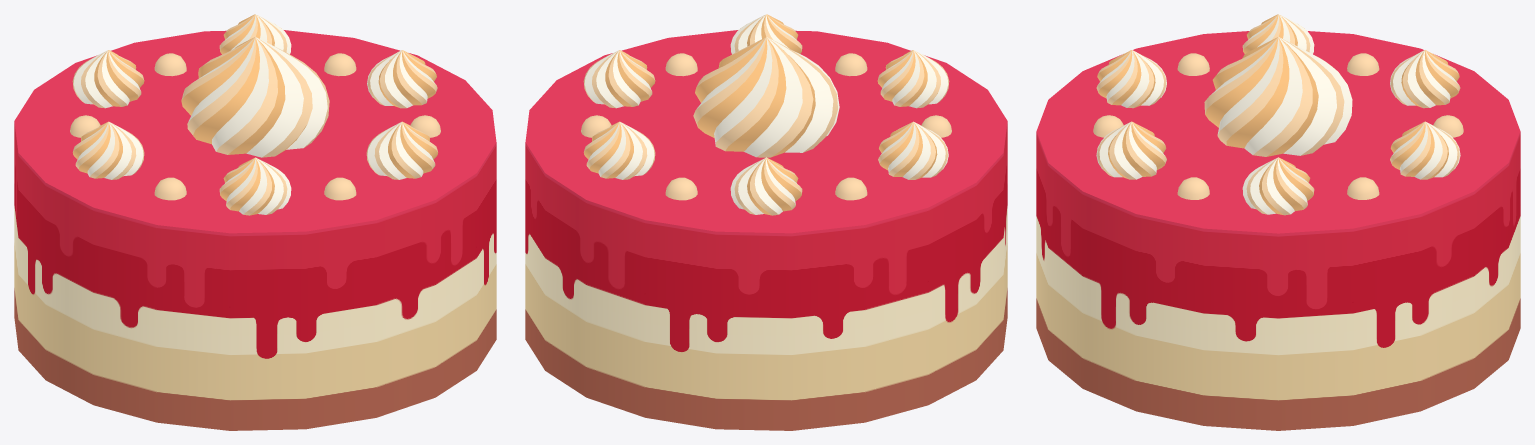
File: cake_red.glb
3 renders of one model, left to right at view 1: azimuth 30°, elevation 25°; view 2: azimuth 150°, elevation 25°; view 3: azimuth 270°, elevation 25°, orthographic.
Visible parts, largest first — view 1: Whole_Cheesecake_0; view 2: Whole_Cheesecake_0; view 3: Whole_Cheesecake_0.
Boxes of the visible parts, x1,y1,x2,y2 form: Whole_Cheesecake_0: [14, 14, 496, 430]; Whole_Cheesecake_0: [525, 14, 1007, 430]; Whole_Cheesecake_0: [1036, 14, 1520, 430].
Bounding box in the file's own units: 0.4 × 0.2662 × 0.4.
Materials: 1 (1 with a texture image).
